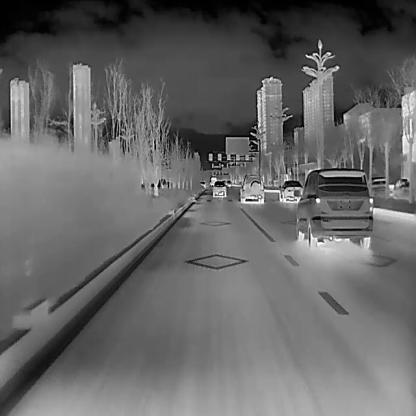car: (292, 167, 373, 249), (239, 174, 264, 202), (278, 180, 304, 203), (369, 177, 391, 198), (391, 176, 409, 199), (211, 180, 226, 196)
